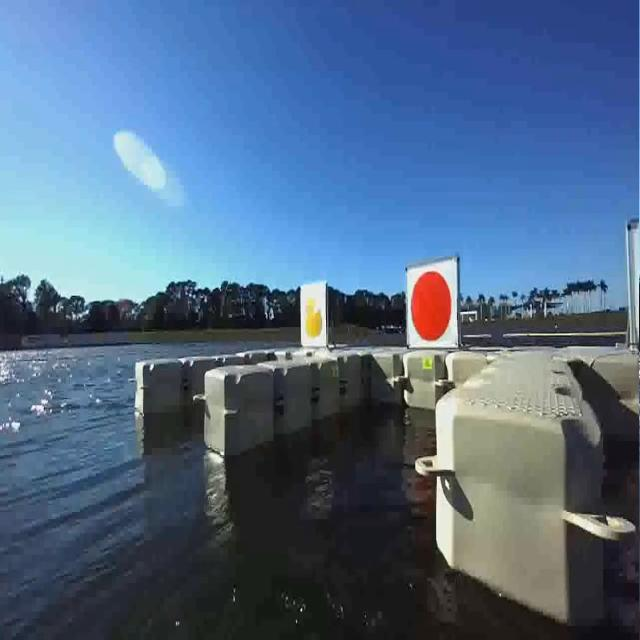red-dot: (406, 262, 457, 349)
yellow-duck: (301, 284, 325, 350)
